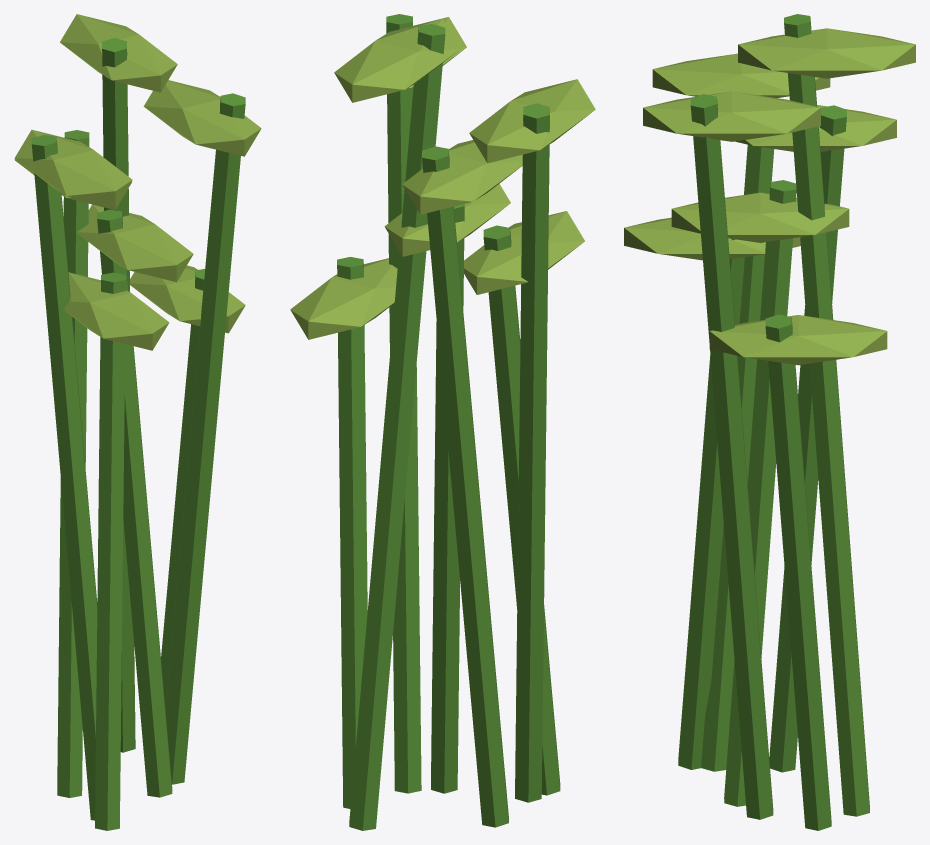
File: M09_BambooClump.fbx
3 renders of one model, left to right at view 1: azimuth 30°, elevation 25°; view 2: azimuth 150°, elevation 25°; view 3: azimuth 270°, elevation 25°, orthographic. The views are drawn at different scales.
Parts seen in each view (by area): view 1: M09_BambooClump; view 2: M09_BambooClump; view 3: M09_BambooClump.
Part boxes in pixels (bbox=[...]): M09_BambooClump: bbox=[14, 14, 261, 830]; M09_BambooClump: bbox=[290, 14, 595, 830]; M09_BambooClump: bbox=[624, 14, 915, 830].
Bounding box in the file's own units: 2.65 × 9 × 3.07.
1 material, 1 textured.
